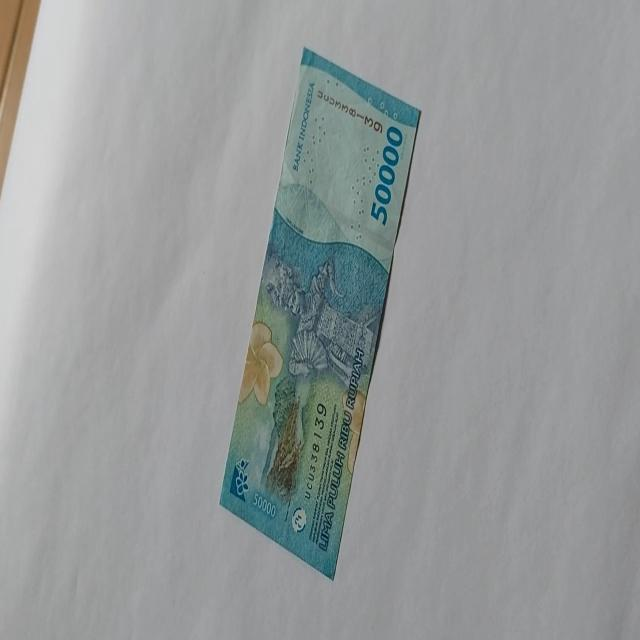lima puluh ribu rupiah: (218, 46, 422, 580)
